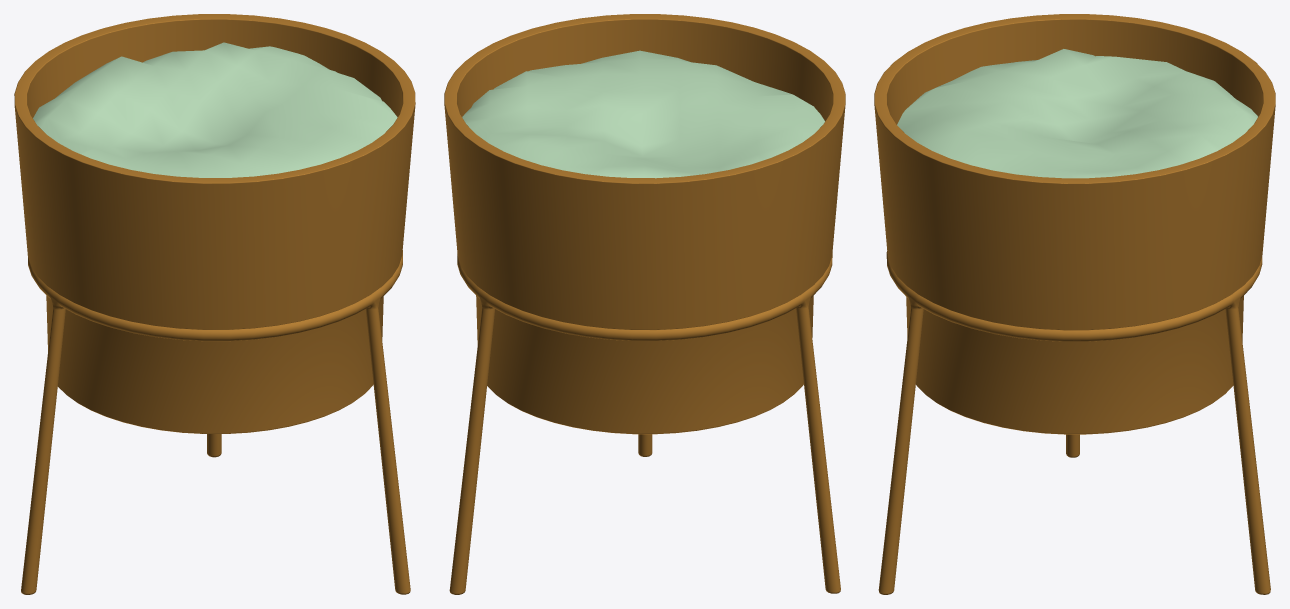
File: Pot02.fbx
The picture shows the model from 3 angles, left to right: view 1: azimuth 30°, elevation 25°; view 2: azimuth 150°, elevation 25°; view 3: azimuth 270°, elevation 25°; orthographic projection.
Visible parts, largest first — view 1: Plant_Base02:Mesh1, Plant_Base02:Mesh; view 2: Plant_Base02:Mesh1, Plant_Base02:Mesh; view 3: Plant_Base02:Mesh1, Plant_Base02:Mesh.
Part boxes in pixels (box(x1,y1,x2,y2)): Plant_Base02:Mesh1: box(14, 14, 415, 594); Plant_Base02:Mesh: box(33, 42, 397, 177); Plant_Base02:Mesh1: box(444, 14, 845, 594); Plant_Base02:Mesh: box(462, 50, 824, 178); Plant_Base02:Mesh1: box(874, 14, 1275, 594); Plant_Base02:Mesh: box(897, 49, 1257, 178).
Bounding box in the file's own units: 0.4689 × 0.5459 × 0.443.
